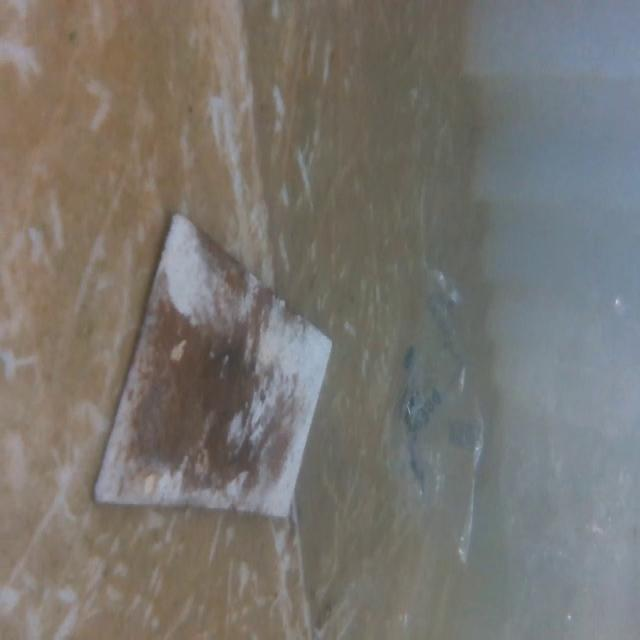metal: (102, 197, 332, 556)
plastic bags: (513, 297, 640, 640), (395, 298, 496, 562)
